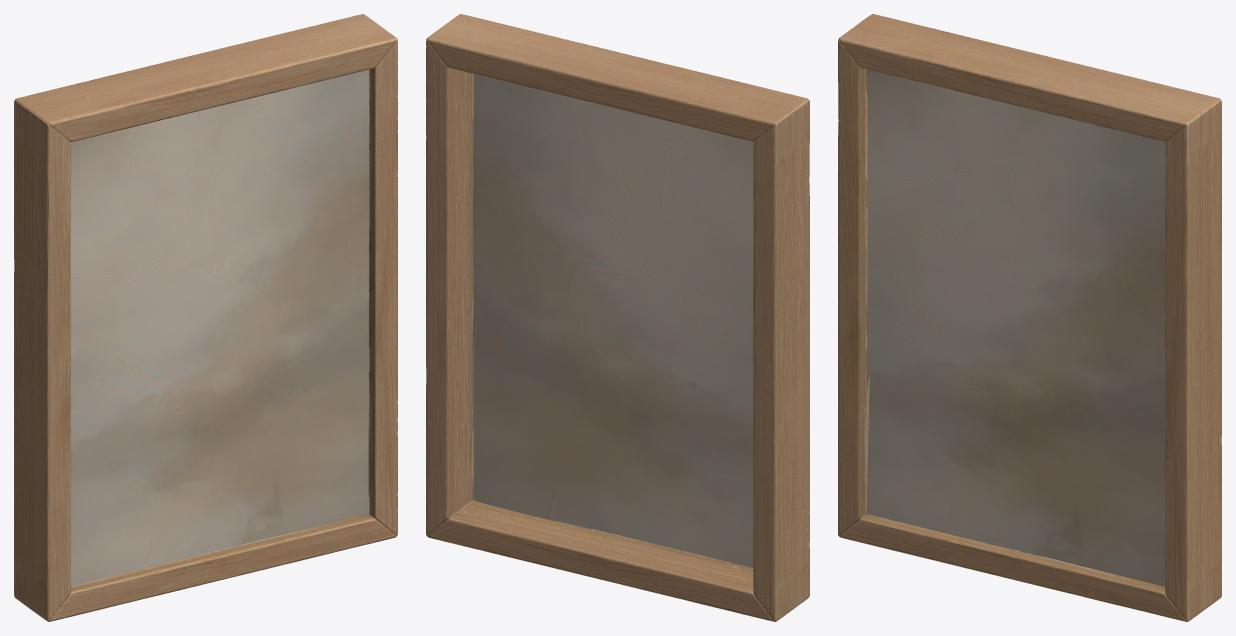
3 renders of one model, left to right at view 1: azimuth 30°, elevation 25°; view 2: azimuth 150°, elevation 25°; view 3: azimuth 330°, elevation 25°, orthographic.
Parts seen in each view (by area): view 1: Mesh_0; view 2: Mesh_0; view 3: Mesh_0.
Part boxes in pixels (x1,y1,x2,y2): Mesh_0: (14,14,397,621); Mesh_0: (426,14,809,621); Mesh_0: (838,14,1221,621).
Bounding box in the file's own units: 0.6483 × 0.8814 × 0.1117.
1 material, 1 textured.
